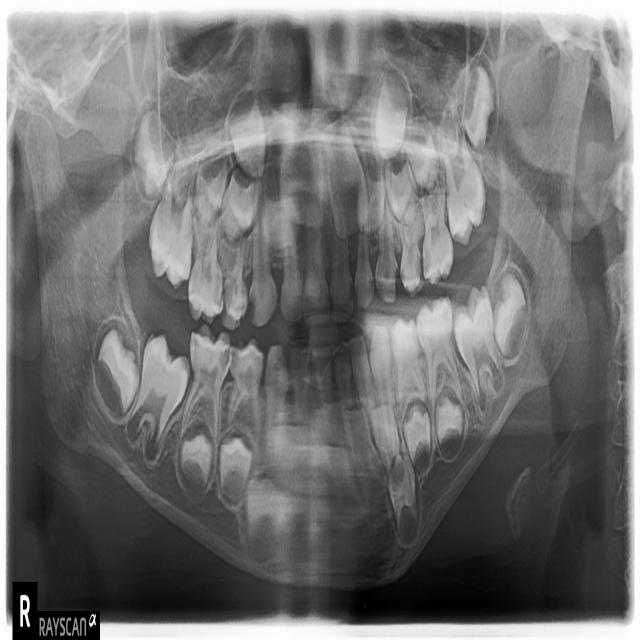mandibula: (27, 42, 589, 591)
